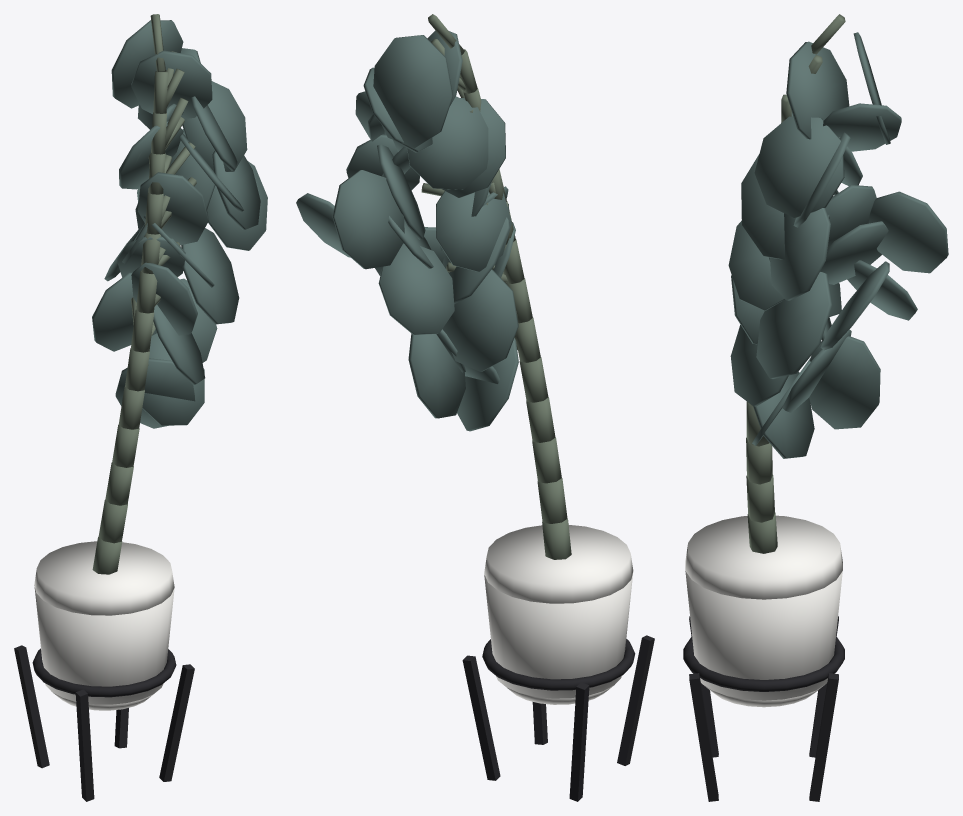
File: rios_rubber_plant.glb
The picture shows the model from 3 angles, left to right: view 1: azimuth 30°, elevation 25°; view 2: azimuth 150°, elevation 25°; view 3: azimuth 270°, elevation 25°; orthographic projection. The views are drawn at different scales.
Parts seen in each view (by area): view 1: root; view 2: root; view 3: root.
Boxes of the visible parts, bbox=[...] form: root: bbox=[14, 14, 267, 801]; root: bbox=[296, 14, 654, 801]; root: bbox=[683, 14, 948, 801].
Bounding box in the file's own units: 0.7657 × 1.99 × 0.5897.
